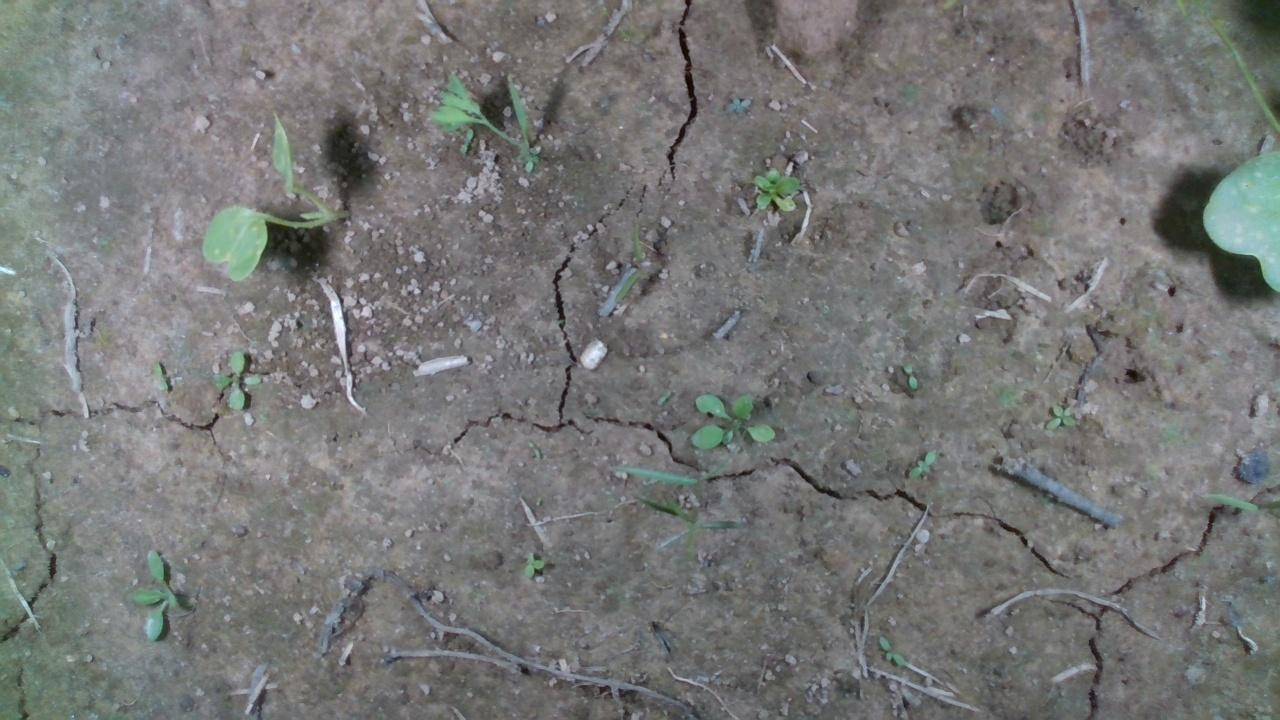weed: (690, 390, 774, 449), (129, 545, 167, 645), (208, 349, 265, 412), (752, 166, 798, 212), (903, 449, 937, 482), (1044, 403, 1075, 430), (721, 90, 751, 117), (522, 548, 545, 578), (153, 361, 170, 394), (899, 361, 918, 390)
